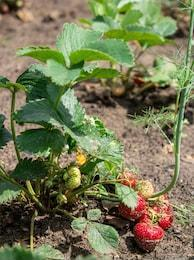Fresa: (131, 221, 164, 253), (117, 192, 146, 223)
